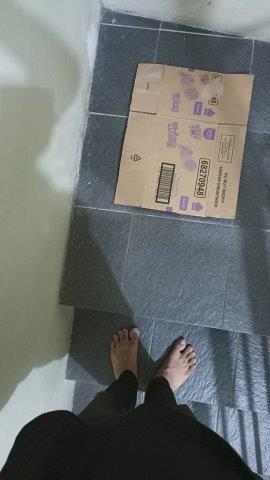kardus: (116, 64, 252, 218)
